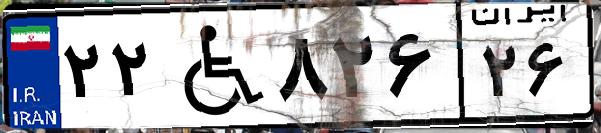2: (330, 28, 385, 110), (57, 26, 110, 100), (475, 38, 525, 113), (110, 28, 158, 98)
6: (385, 28, 445, 110), (525, 38, 570, 115)
8: (270, 28, 330, 110)
ژ (معلولین و جانبازان): (158, 12, 270, 120)
